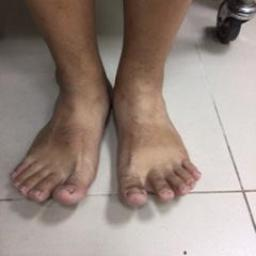Front View -Both Feet-: (5, 37, 208, 223)
